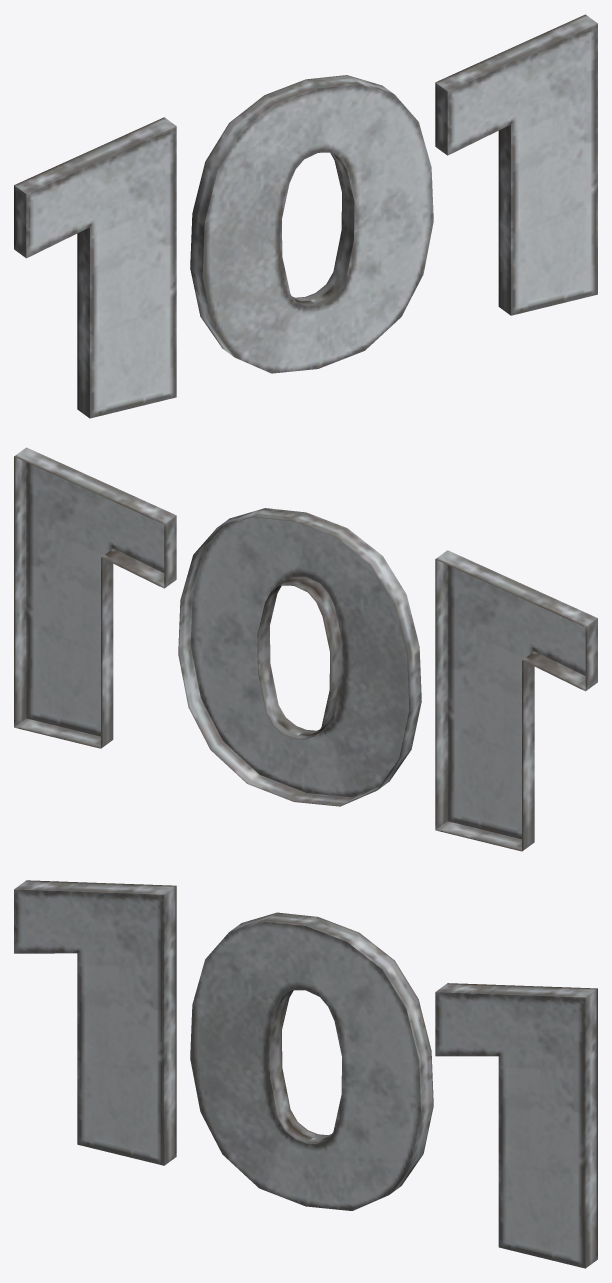
File: categorySign101.FBX
The picture shows the model from 3 angles, top to bottom: view 1: azimuth 30°, elevation 25°; view 2: azimuth 150°, elevation 25°; view 3: azimuth 330°, elevation 25°; orthographic projection.
Visible parts, largest first — view 1: SM_CategorySign101; view 2: SM_CategorySign101; view 3: SM_CategorySign101.
Part boxes in pixels (left/top/right/bottom): SM_CategorySign101: left=14, top=14, right=597, bottom=418; SM_CategorySign101: left=14, top=447, right=597, bottom=851; SM_CategorySign101: left=14, top=880, right=597, bottom=1268.
Size of the model in its own units: 5.3 by 2.48 by 0.2.
Materials: 1 (1 with a texture image).
